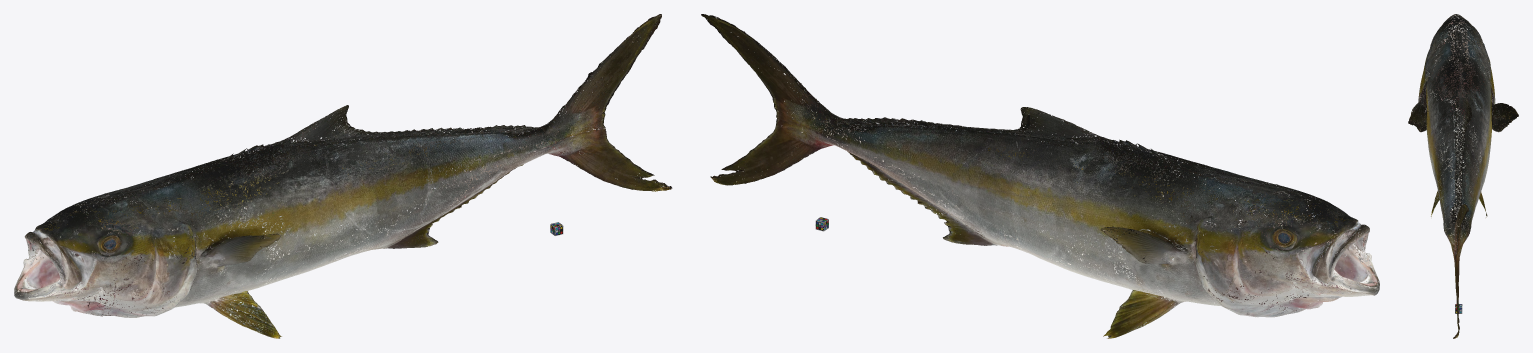
Rendered from scan_amberjack.glb.
3 renders of one model, left to right at view 1: azimuth 30°, elevation 25°; view 2: azimuth 150°, elevation 25°; view 3: azimuth 270°, elevation 25°, orthographic. The views are drawn at different scales.
Visible parts, largest first — view 1: Object_6, Object_14, Object_20, Object_27; view 2: Object_20, Object_27, Object_14, Object_6; view 3: Object_20, Object_14, Object_6, Object_27.
Boxes of the visible parts, bbox=[...] form: Object_6: bbox=[14, 16, 671, 338]; Object_14: bbox=[14, 18, 672, 338]; Object_20: bbox=[14, 18, 670, 338]; Object_27: bbox=[14, 14, 671, 338]; Object_20: bbox=[712, 16, 1378, 336]; Object_27: bbox=[701, 14, 1379, 338]; Object_14: bbox=[705, 15, 1378, 337]; Object_6: bbox=[707, 15, 1379, 338]; Object_20: bbox=[1409, 14, 1517, 337]; Object_14: bbox=[1408, 14, 1516, 338]; Object_6: bbox=[1408, 15, 1518, 338]; Object_27: bbox=[1408, 14, 1513, 338].
Bounding box in the file's own units: 24.77 × 7.62 × 4.72.
Materials: 5 (5 with a texture image).
